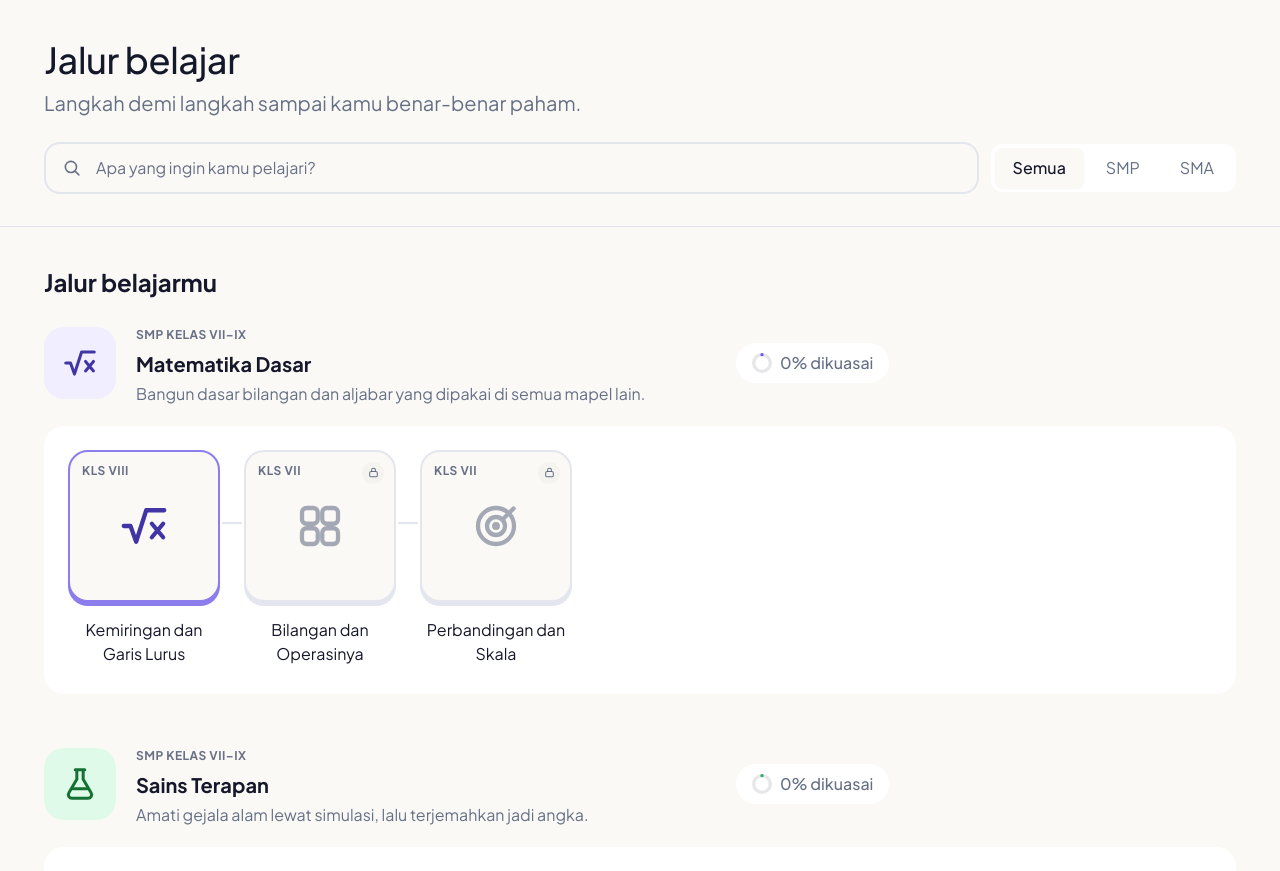
Test: layar Belajar › menyaring menurut jenjang
Click the button "SMA" at (1197, 168), box [1162, 148, 1232, 188]
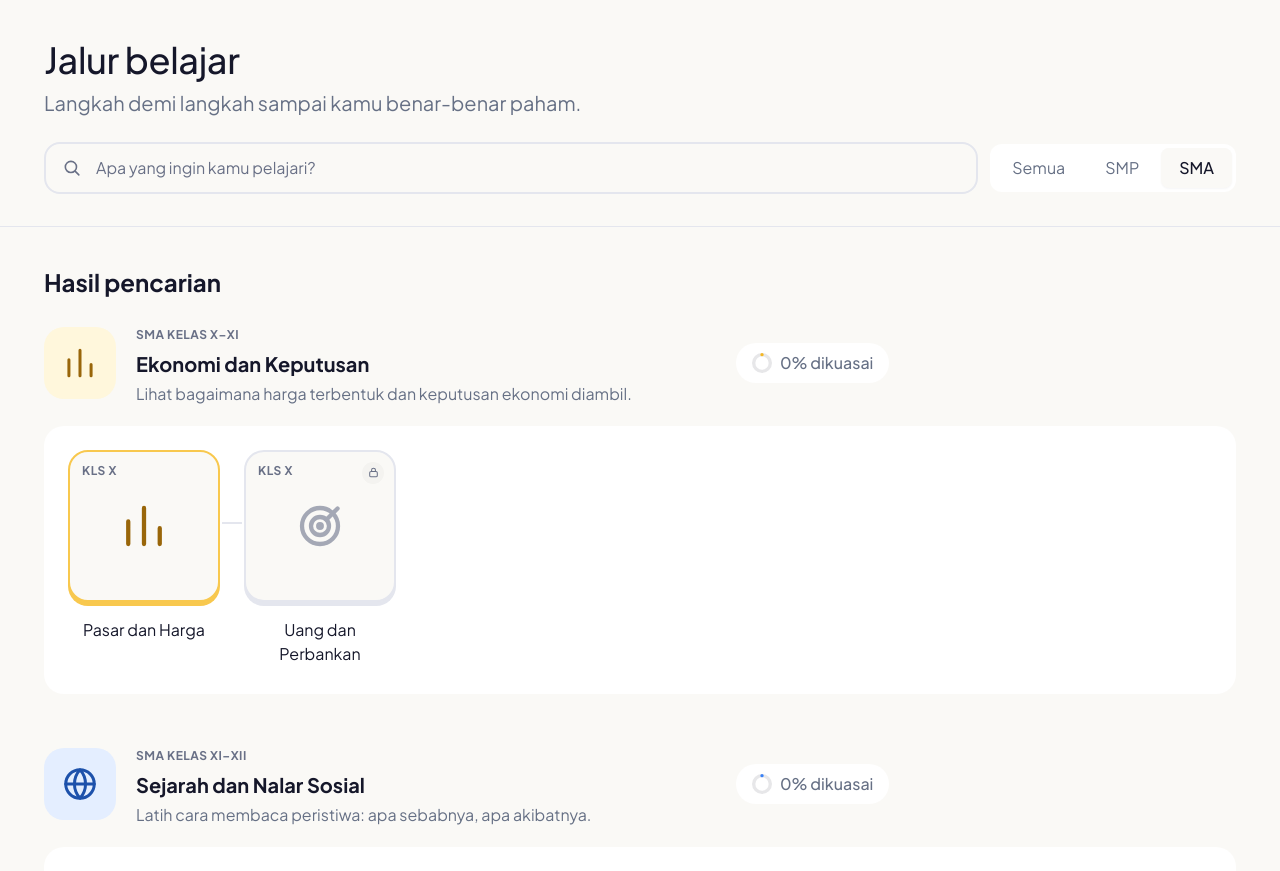
Expected: the button with aria-label "Buka kursus Pasar dan Harga" is shown, [68, 450, 220, 602]
Result: the text "Kemiringan dan Garis Lurus" is gone
